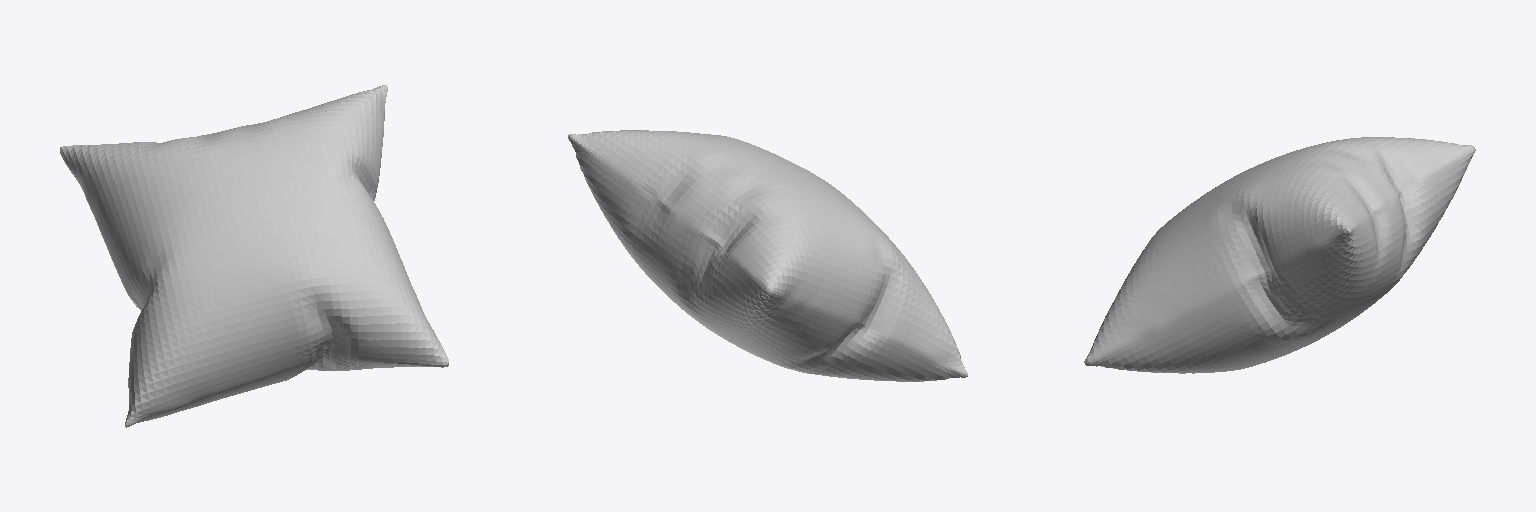
The model's file is pillow5.obj.
The picture shows the model from 3 angles: view 1: azimuth 30°, elevation 25°; view 2: azimuth 150°, elevation 25°; view 3: azimuth 270°, elevation 25°; orthographic projection.
Visible parts, largest first — view 1: Plane.004; view 2: Plane.004; view 3: Plane.004.
Part boxes in pixels (x1,y1,x2,y2): Plane.004: (60, 85, 448, 427); Plane.004: (568, 130, 967, 381); Plane.004: (1084, 137, 1475, 373).
Bounding box in the file's own units: 0.3993 × 0.2579 × 0.4093.